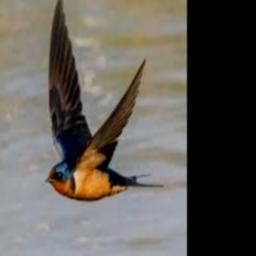Swallow: (44, 0, 164, 200)
